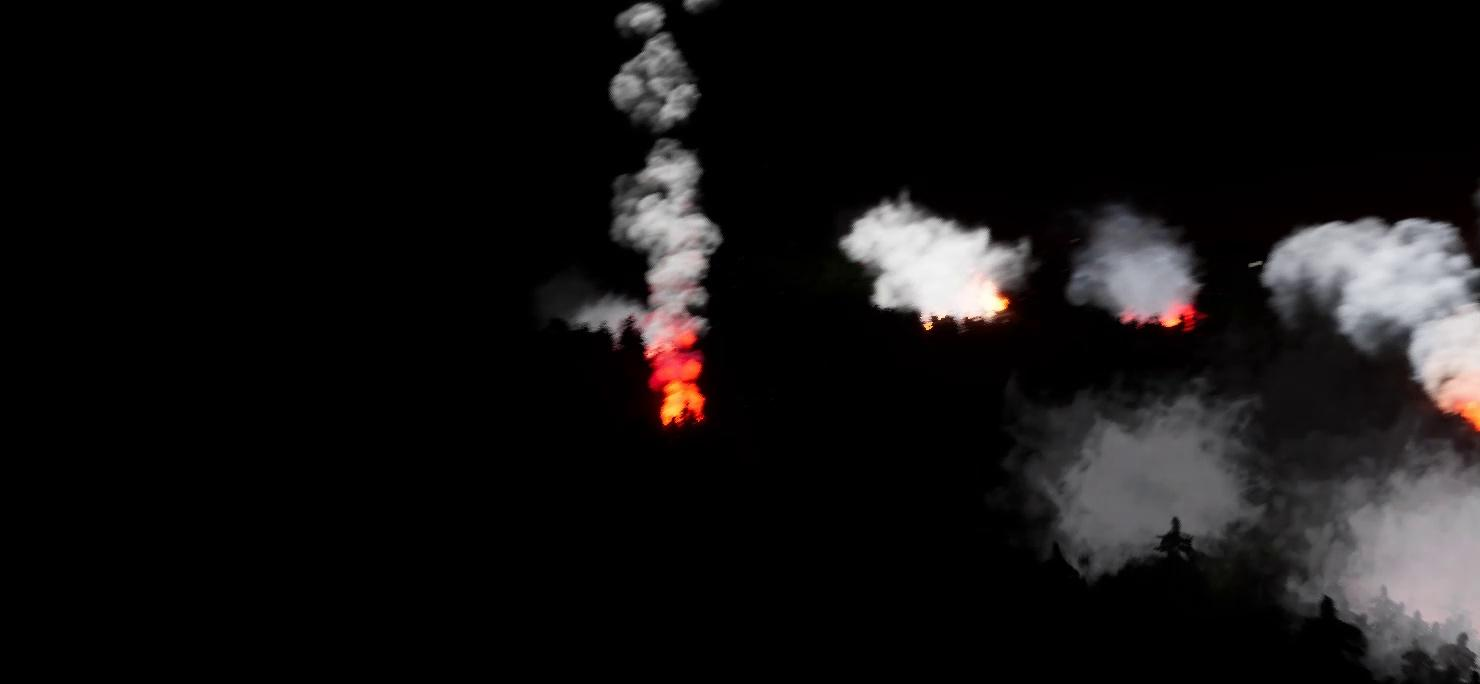fire: (635, 327, 699, 427), (924, 283, 1012, 317), (1445, 375, 1479, 434), (1137, 301, 1207, 329)
smoke: (1022, 393, 1479, 668), (553, 0, 722, 329), (1253, 217, 1479, 417), (840, 191, 1035, 314), (1065, 196, 1194, 311)
